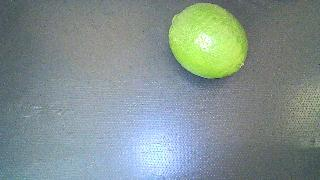EXPORTACION: (169, 3, 247, 79)
